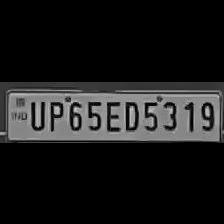1: (180, 98, 196, 132)
3: (160, 98, 180, 132)
5: (140, 96, 160, 132), (84, 97, 102, 131)
6: (64, 97, 84, 130)
9: (196, 98, 216, 132)
D: (120, 97, 140, 130)
E: (103, 98, 121, 132)
P: (44, 98, 64, 132)
U: (27, 97, 46, 130)
